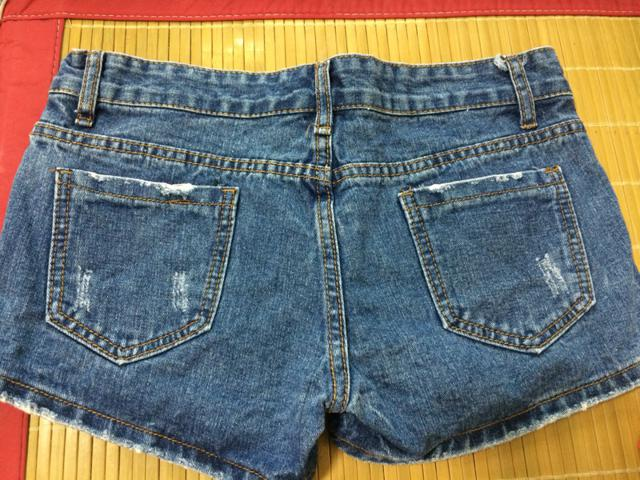Shorts: (1, 50, 640, 476)
